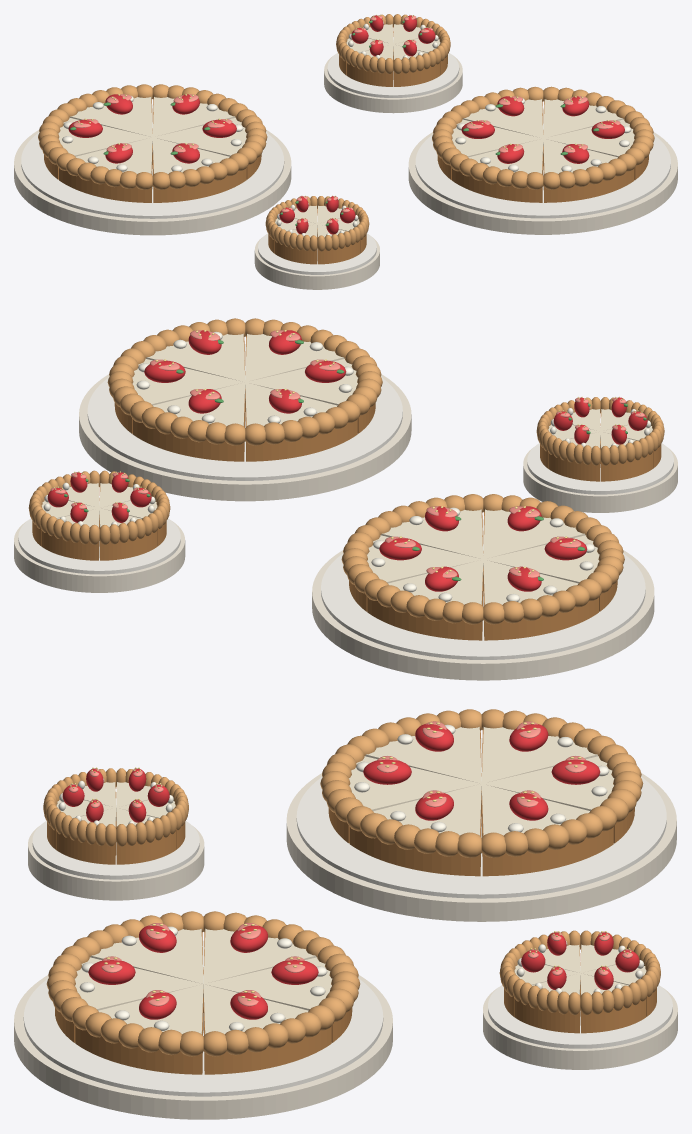
The model's file is pizza-urut-campuran.glb.
3 renders of one model, top to bottom at view 1: azimuth 30°, elevation 25°; view 2: azimuth 150°, elevation 25°; view 3: azimuth 270°, elevation 25°, orthographic. The views are drawn at different scales.
Visible parts, largest first — view 1: Pizza A large plate highlight, Pizza D large plate highlight, Pizza A large ceramic serving plate, Pizza D large ceramic serving plate, Pizza B small ceramic serving plate, Pizza C small ceramic serving plate, Pizza B small plate highlight, Pizza C small plate highlight, Pizza A large cream slice 1, Pizza A large cream slice 2, Pizza D large cream slice 1, Pizza D large cream slice 2 (+18 smaller); view 2: Pizza A large plate highlight, Pizza D large plate highlight, Pizza A large ceramic serving plate, Pizza D large ceramic serving plate, Pizza B small ceramic serving plate, Pizza C small ceramic serving plate, Pizza B small plate highlight, Pizza C small plate highlight, Pizza A large cream slice 5, Pizza A large cream slice 6, Pizza D large cream slice 5, Pizza D large cream slice 6 (+23 smaller); view 3: Pizza A large plate highlight, Pizza D large plate highlight, Pizza A large ceramic serving plate, Pizza D large ceramic serving plate, Pizza B small ceramic serving plate, Pizza C small ceramic serving plate, Pizza B small plate highlight, Pizza C small plate highlight, Pizza A large cream slice 3, Pizza A large cream slice 4, Pizza D large cream slice 3, Pizza D large cream slice 4 (+30 smaller).
Boxes of the visible parts, x1=… form: Pizza A large plate highlight: x1=21, y1=105, x2=284, y2=218; Pizza D large plate highlight: x1=415, y1=107, x2=670, y2=218; Pizza A large ceramic serving plate: x1=14, y1=104, x2=291, y2=235; Pizza D large ceramic serving plate: x1=408, y1=132, x2=677, y2=234; Pizza B small ceramic serving plate: x1=324, y1=55, x2=462, y2=113; Pizza C small ceramic serving plate: x1=254, y1=236, x2=379, y2=289; Pizza B small plate highlight: x1=327, y1=40, x2=459, y2=97; Pizza C small plate highlight: x1=258, y1=222, x2=376, y2=274; Pizza A large cream slice 1: x1=152, y1=97, x2=235, y2=136; Pizza A large cream slice 2: x1=70, y1=97, x2=152, y2=136; Pizza D large cream slice 1: x1=543, y1=99, x2=623, y2=138; Pizza D large cream slice 2: x1=463, y1=99, x2=543, y2=138; Pizza A large plate highlight: x1=321, y1=519, x2=645, y2=659; Pizza D large plate highlight: x1=87, y1=344, x2=402, y2=480; Pizza A large ceramic serving plate: x1=312, y1=550, x2=654, y2=680; Pizza D large ceramic serving plate: x1=79, y1=374, x2=411, y2=501; Pizza B small ceramic serving plate: x1=14, y1=520, x2=185, y2=592; Pizza C small ceramic serving plate: x1=523, y1=447, x2=677, y2=512; Pizza B small plate highlight: x1=18, y1=502, x2=180, y2=574; Pizza C small plate highlight: x1=527, y1=443, x2=673, y2=494; Pizza A large cream slice 5: x1=483, y1=509, x2=585, y2=559; Pizza A large cream slice 6: x1=381, y1=509, x2=483, y2=559; Pizza D large cream slice 5: x1=245, y1=334, x2=344, y2=381; Pizza D large cream slice 6: x1=146, y1=333, x2=245, y2=381; Pizza A large plate highlight: x1=296, y1=738, x2=666, y2=898; Pizza D large plate highlight: x1=23, y1=940, x2=383, y2=1096; Pizza A large ceramic serving plate: x1=286, y1=773, x2=676, y2=921; Pizza D large ceramic serving plate: x1=14, y1=975, x2=392, y2=1119; Pizza B small ceramic serving plate: x1=483, y1=987, x2=677, y2=1069; Pizza C small ceramic serving plate: x1=28, y1=825, x2=204, y2=900; Pizza B small plate highlight: x1=488, y1=967, x2=672, y2=1048; Pizza C small plate highlight: x1=32, y1=805, x2=199, y2=879; Pizza A large cream slice 3: x1=481, y1=727, x2=597, y2=783; Pizza A large cream slice 4: x1=365, y1=727, x2=481, y2=783; Pizza D large cream slice 3: x1=203, y1=928, x2=316, y2=983; Pizza D large cream slice 4: x1=90, y1=929, x2=203, y2=983.
Bounding box in the file's own units: 5.31 × 0.536 × 4.1.
